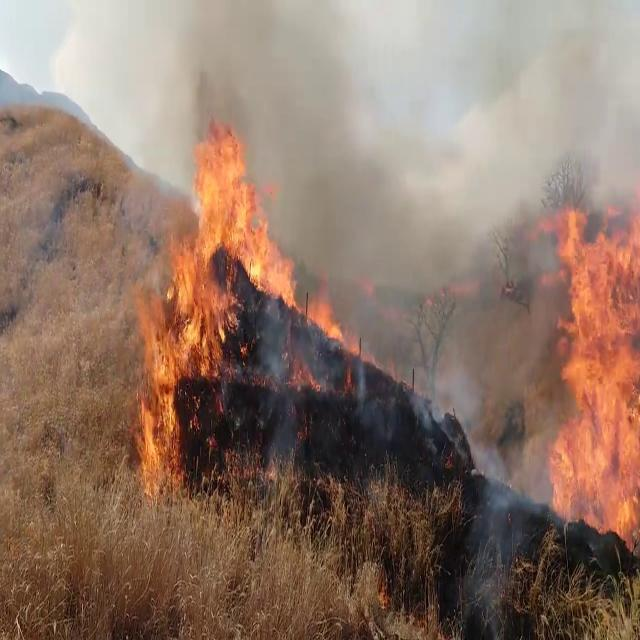Fire: (136, 112, 294, 474), (535, 166, 640, 548), (307, 287, 345, 350)
Smoke: (282, 0, 566, 569)
